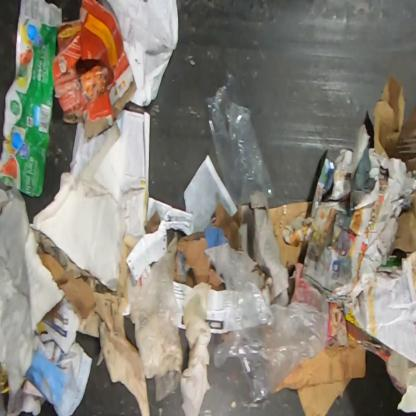cardboard: (52, 0, 137, 139), (275, 337, 367, 415), (268, 200, 313, 273)
soft_plastic: (203, 241, 330, 404), (0, 0, 63, 199), (205, 69, 276, 209), (127, 231, 184, 403)
